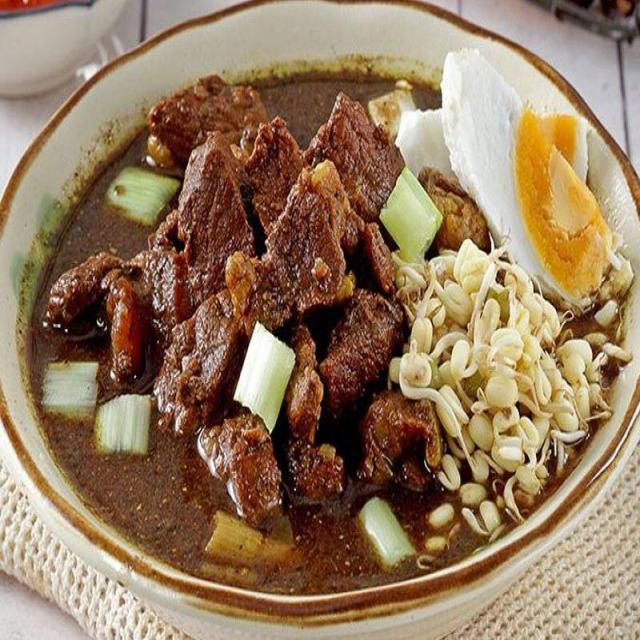Rawon: (57, 42, 584, 558)
